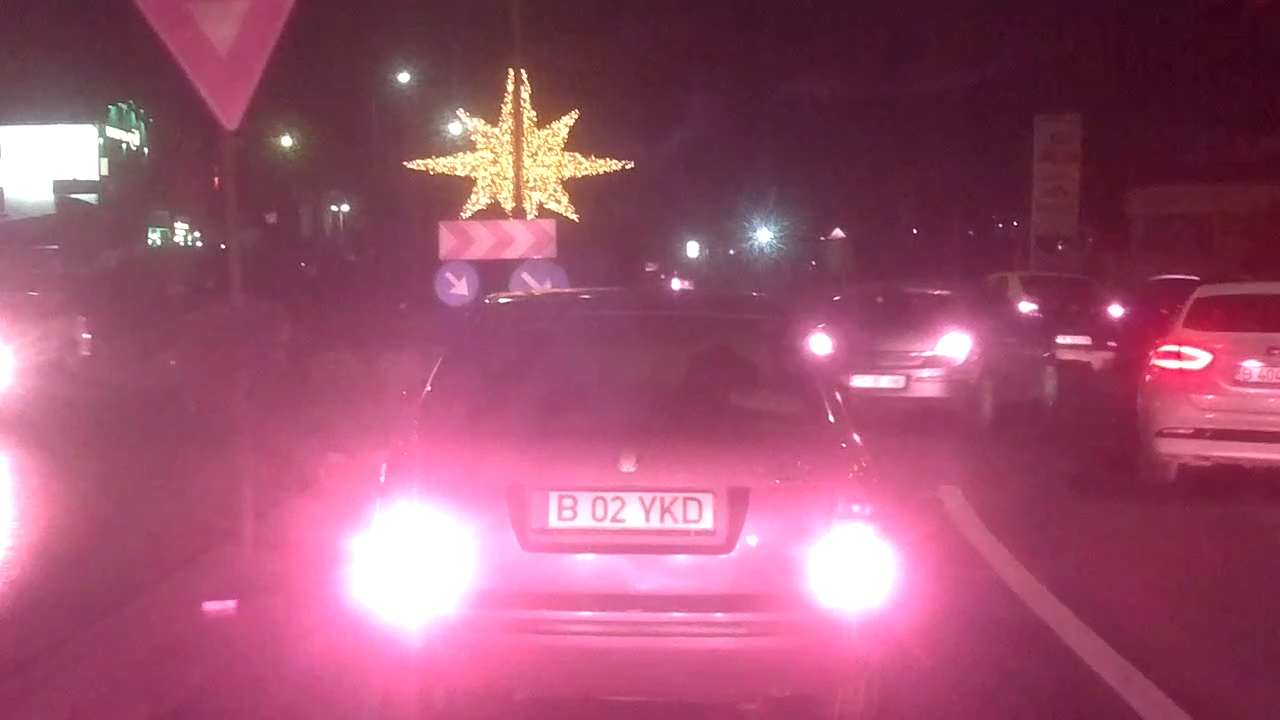license-plate: (537, 484, 722, 538)
